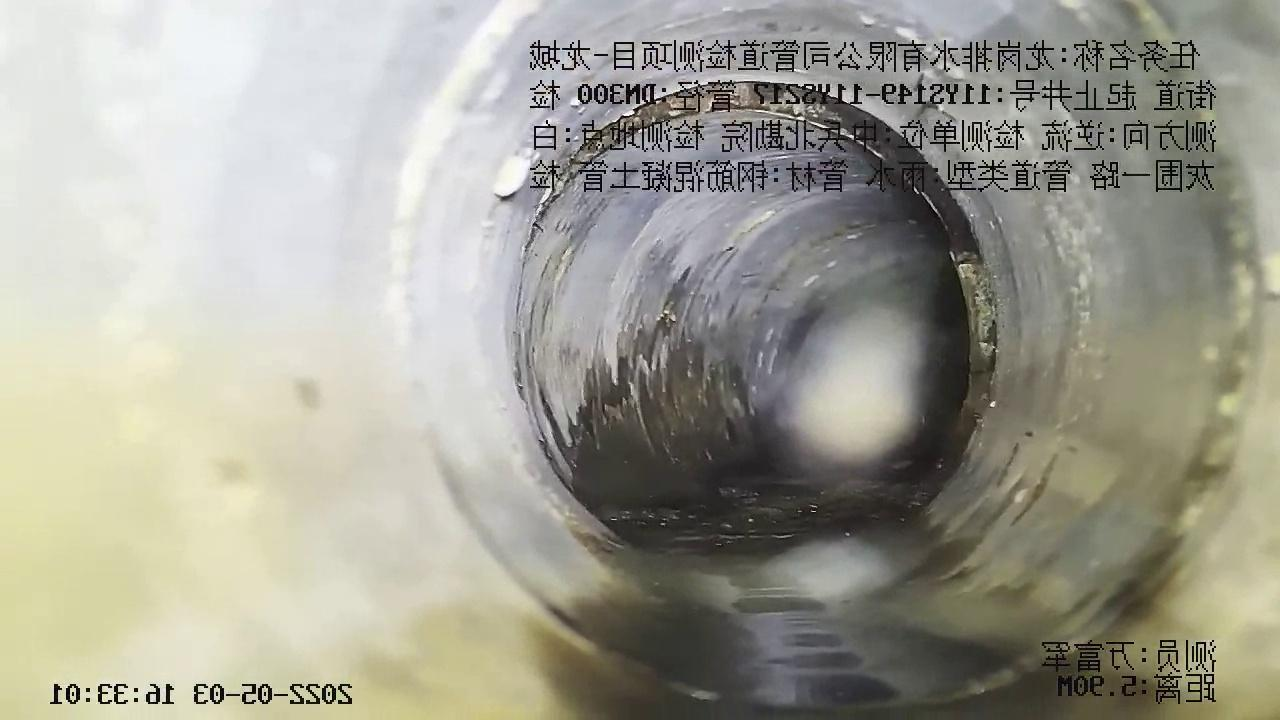CKTJ: (552, 82, 997, 468)
